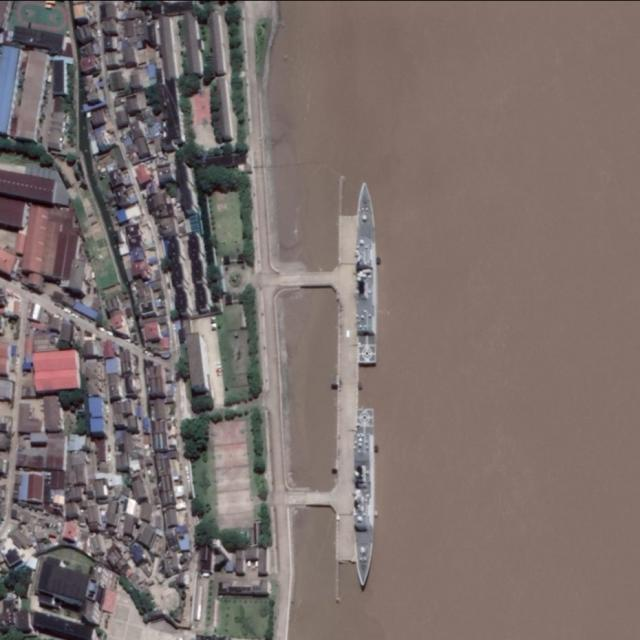Auxiliary Ships: (356, 183, 376, 364), (356, 407, 373, 589)
